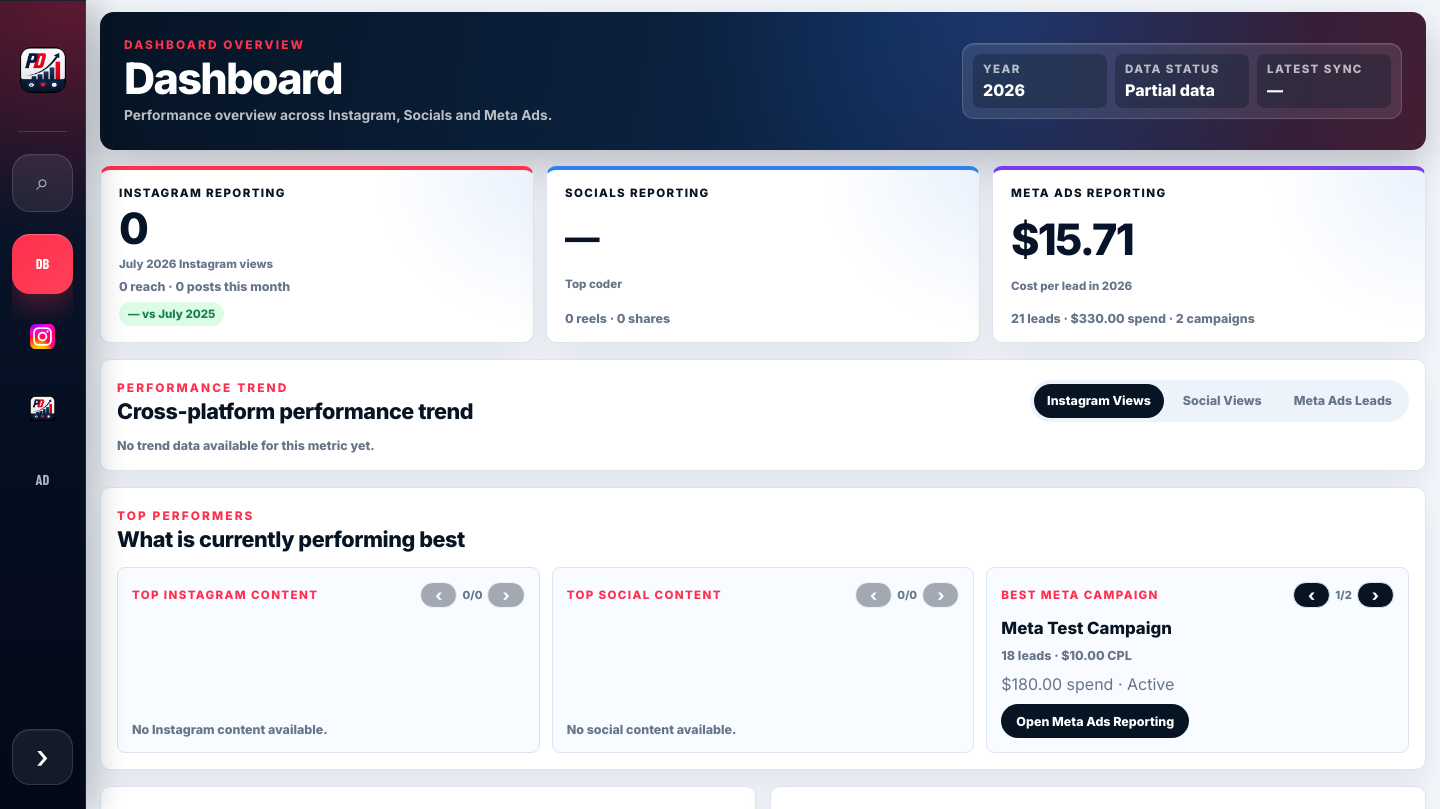
shows only the active tab error message
The image size is (1440, 809).
Step 1. Click the button named "socials reporting leaderboard" → (42, 408), box x1=12 y1=378 x2=73 y2=438
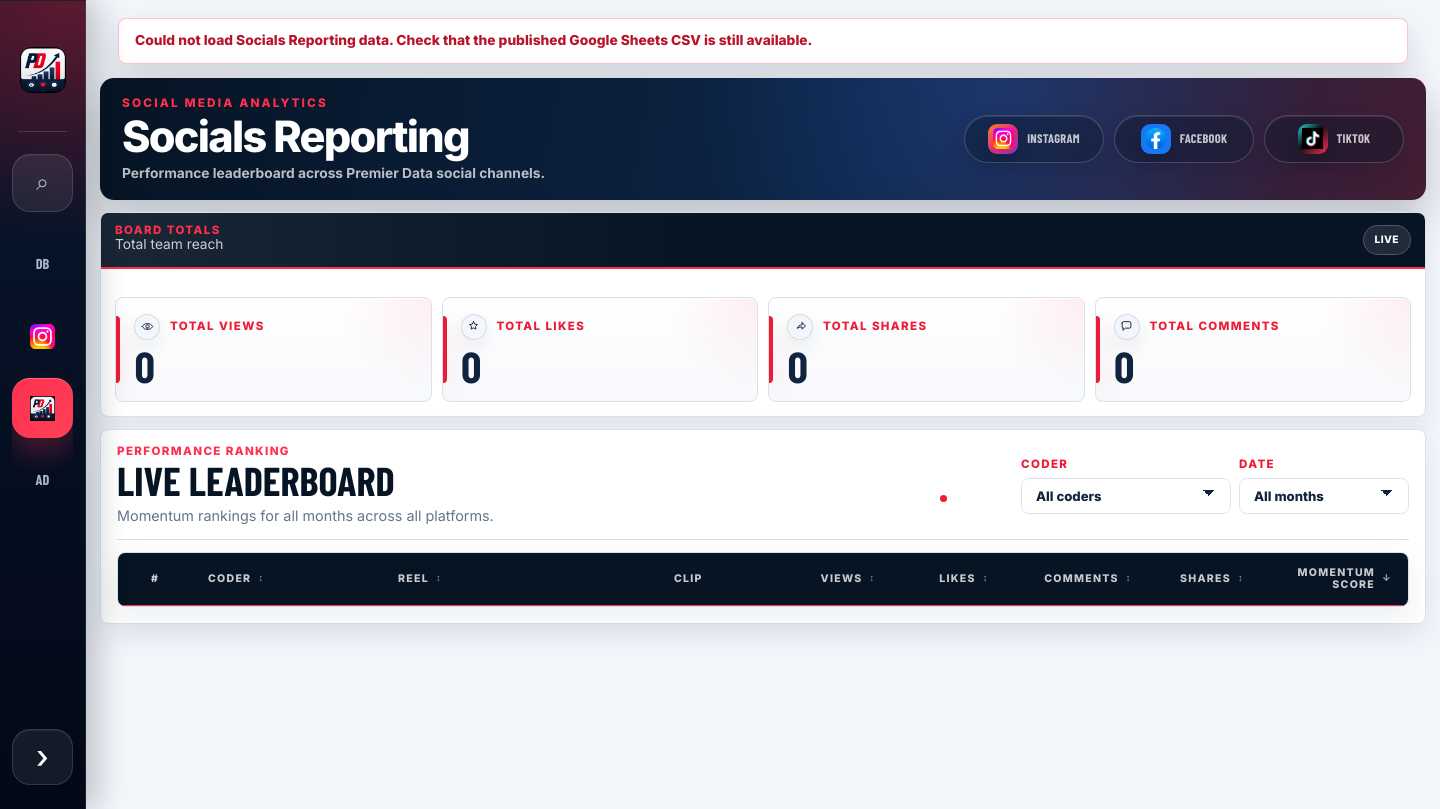
Result: the message shows "Could not load Socials Reporting data" at x1=135 y1=33 x2=393 y2=49
